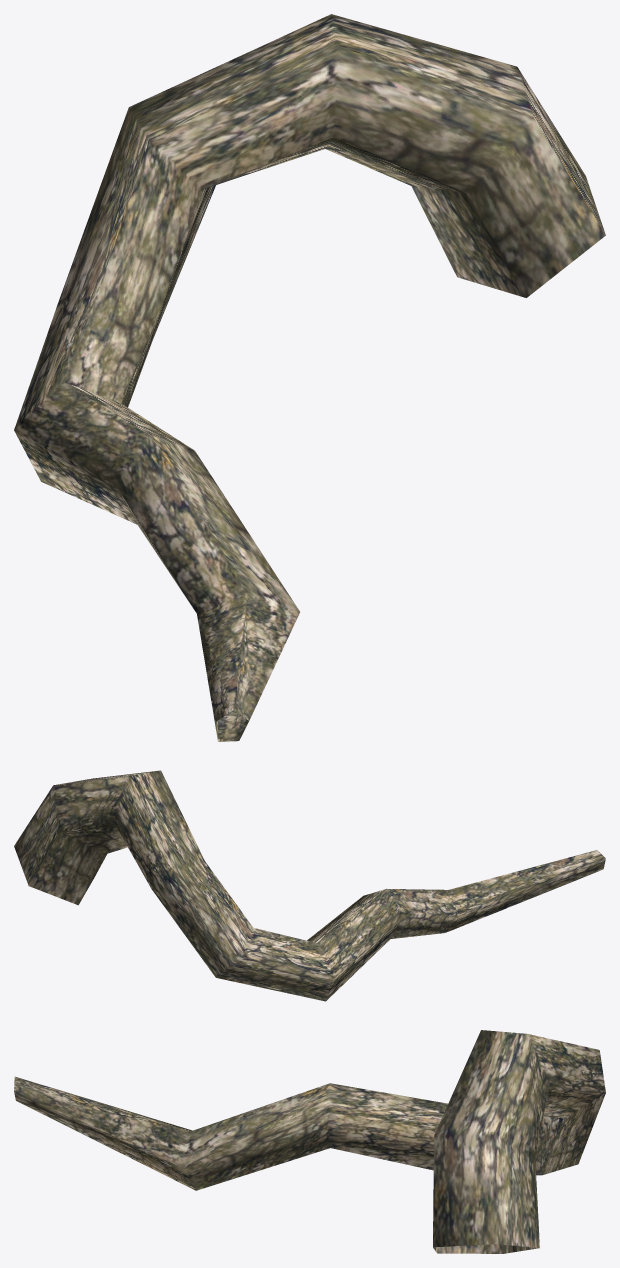
The model's file is OVERHILL_A_01_LINE328.fbx.
3 views of the same model, one above another, from view 1: azimuth 30°, elevation 25°; view 2: azimuth 150°, elevation 25°; view 3: azimuth 270°, elevation 25° (orthographic). The views are drawn at different scales.
Visible parts, largest first — view 1: OVERHILL_A_01_LINE328; view 2: OVERHILL_A_01_LINE328; view 3: OVERHILL_A_01_LINE328.
Part boxes in pixels (left/top/right/bottom): OVERHILL_A_01_LINE328: left=14, top=14, right=605, bottom=741; OVERHILL_A_01_LINE328: left=14, top=770, right=605, bottom=1001; OVERHILL_A_01_LINE328: left=14, top=1030, right=605, bottom=1253.
Size of the model in its own units: 62327 by 30940 by 65480.
Materials: 1 (1 with a texture image).
